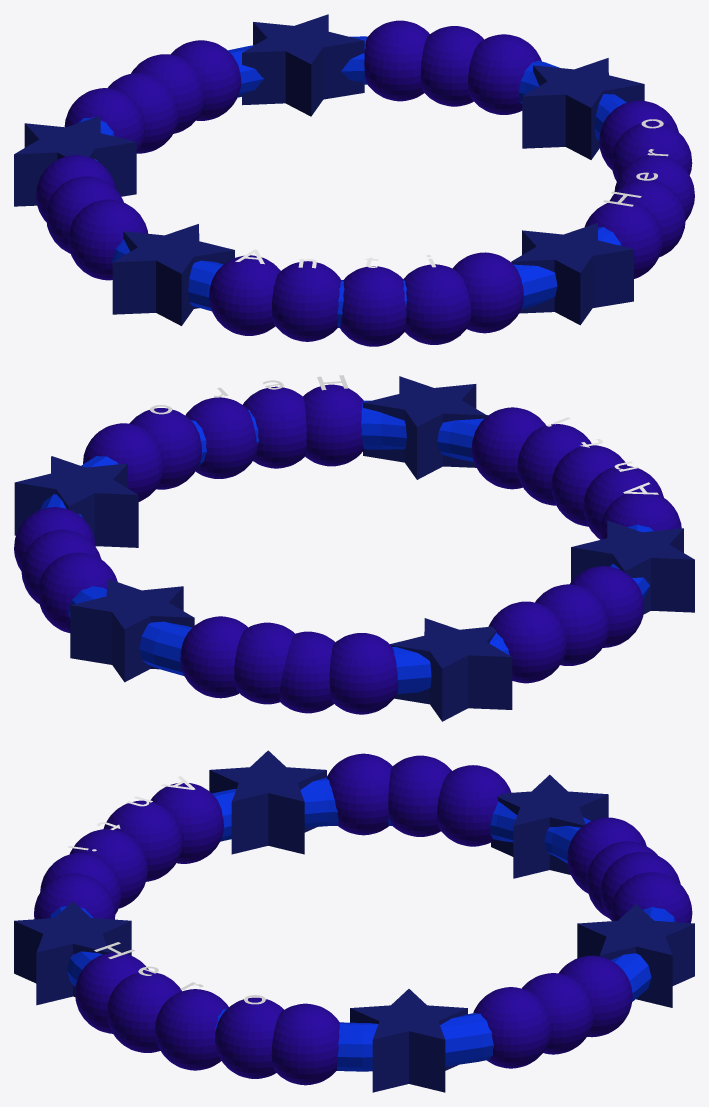
File: Midnights_AntiHero.fbx
3 views of the same model, one above another, from view 1: azimuth 30°, elevation 25°; view 2: azimuth 150°, elevation 25°; view 3: azimuth 270°, elevation 25° (orthographic).
Parts seen in each view (by area): view 1: Torus.040; view 2: Torus.040; view 3: Torus.040.
Boxes of the visible parts, <box> form: Torus.040: <box>14,14,694,346</box>; Torus.040: <box>14,376,694,721</box>; Torus.040: <box>14,750,694,1092</box>.
Bounding box in the file's own units: 117 × 15.79 × 117.
